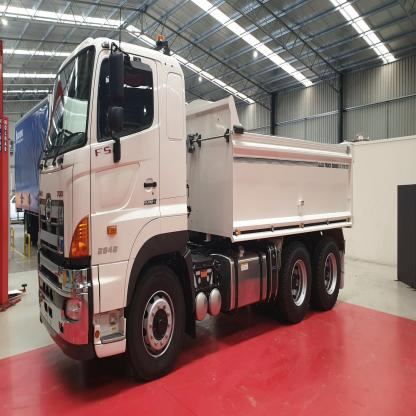dump_truck: (28, 35, 360, 394)
